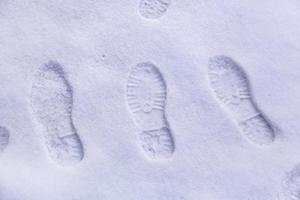human_footprint: (205, 50, 283, 148), (28, 50, 87, 172), (123, 59, 182, 166)
